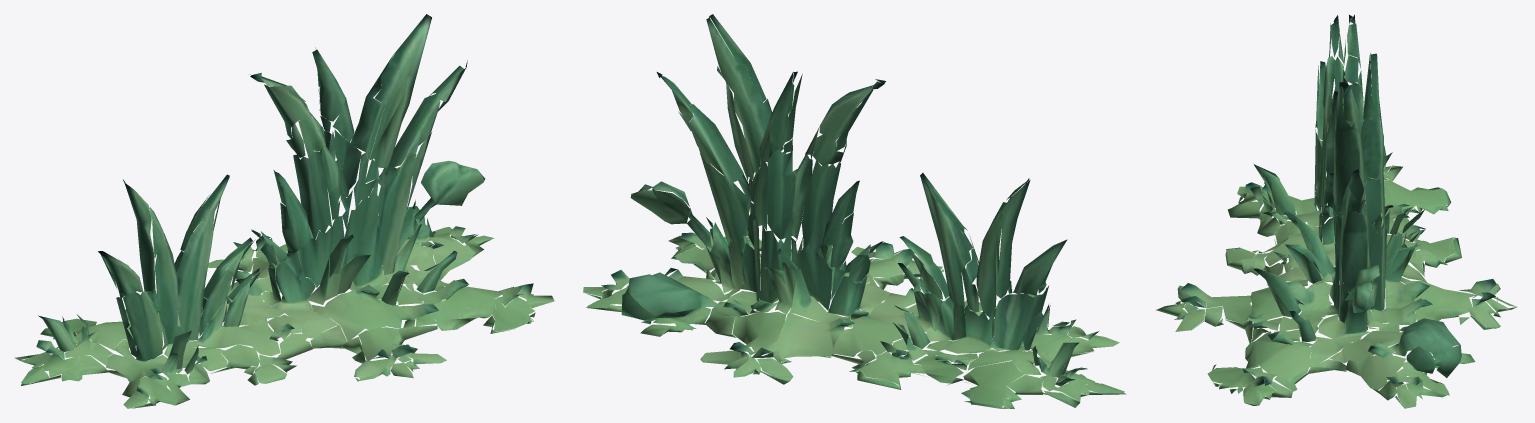
The model's file is green06.glb.
The picture shows the model from 3 angles, left to right: view 1: azimuth 30°, elevation 25°; view 2: azimuth 150°, elevation 25°; view 3: azimuth 270°, elevation 25°; orthographic projection. The views are drawn at different scales.
Visible parts, largest first — view 1: tripo_node_b4c1b23b-3171-471d-979c-bb47f5304afd; view 2: tripo_node_b4c1b23b-3171-471d-979c-bb47f5304afd; view 3: tripo_node_b4c1b23b-3171-471d-979c-bb47f5304afd.
Boxes of the visible parts, x1,y1,x2,y2 form: tripo_node_b4c1b23b-3171-471d-979c-bb47f5304afd: [15, 14, 554, 408]; tripo_node_b4c1b23b-3171-471d-979c-bb47f5304afd: [583, 14, 1126, 408]; tripo_node_b4c1b23b-3171-471d-979c-bb47f5304afd: [1156, 14, 1516, 408].
Size of the model in its own units: 1 by 0.5264 by 0.6058.
1 material, 1 textured.
